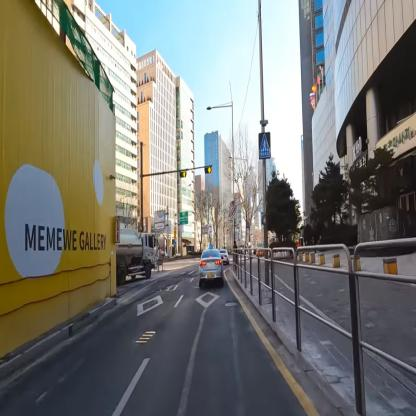Yellow: (203, 164, 212, 174), (180, 169, 186, 179)
